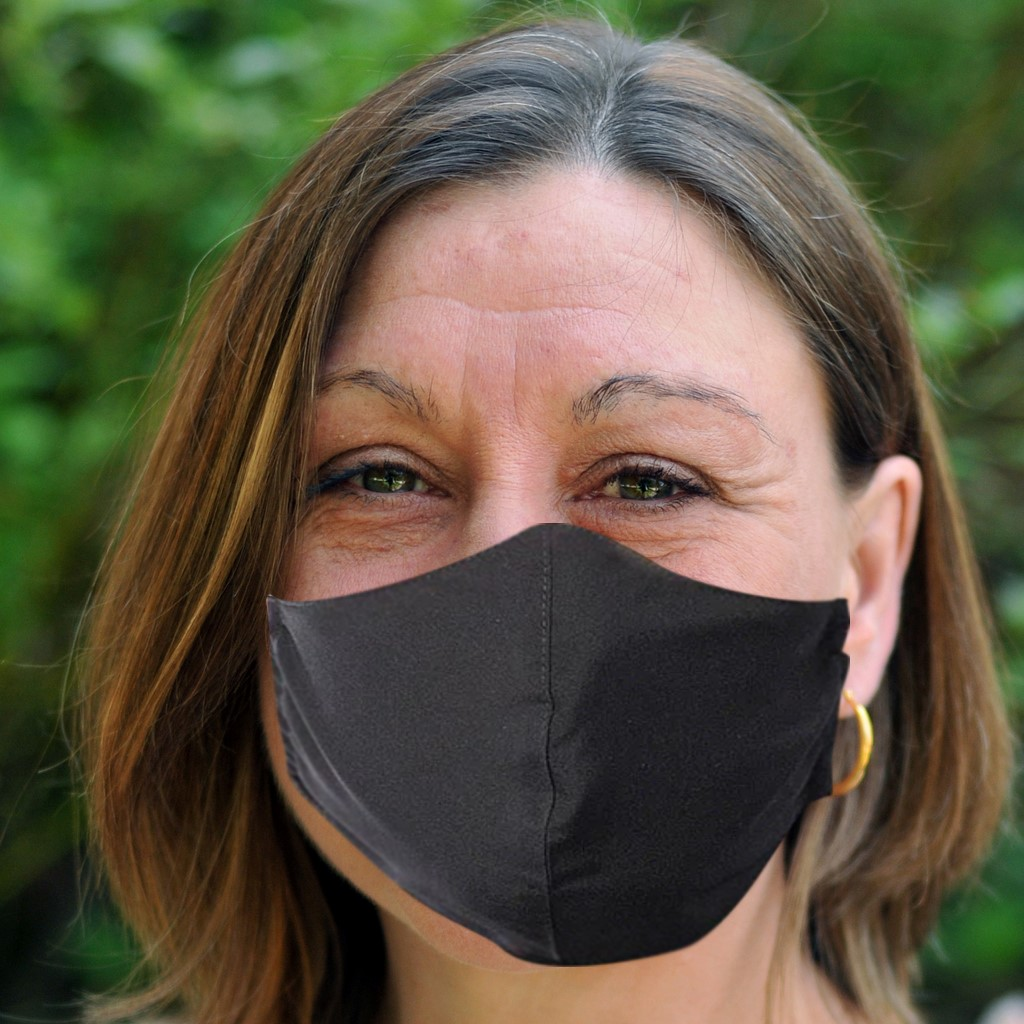con_mascara: (251, 130, 862, 971)
